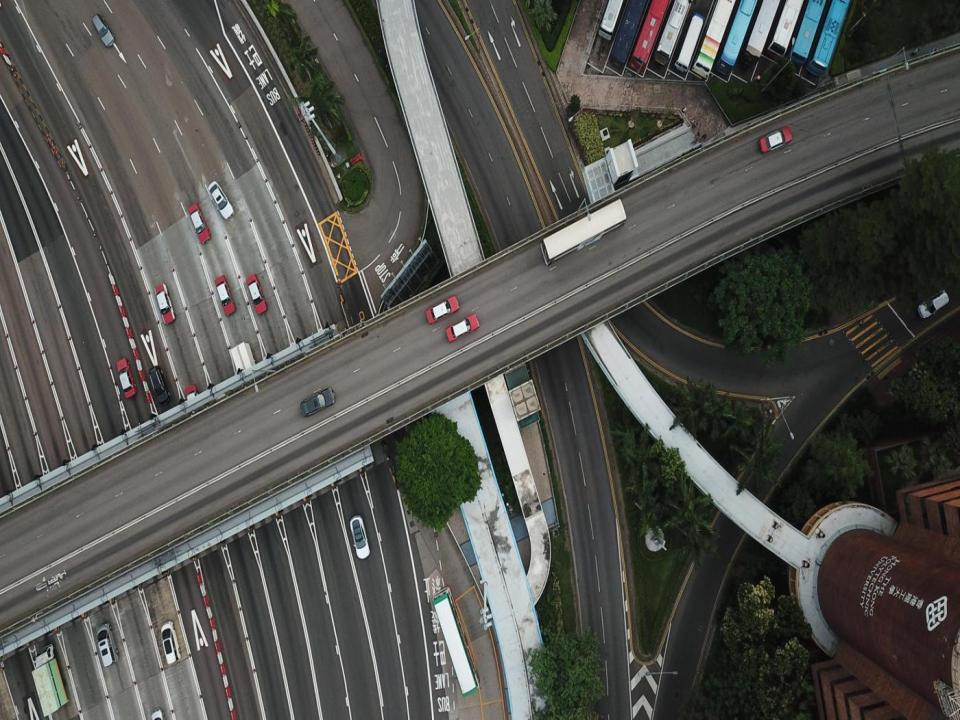bus: (540, 199, 625, 266), (432, 586, 479, 697), (692, 0, 736, 79), (804, 1, 849, 77), (715, 0, 757, 76), (786, 0, 828, 69), (740, 0, 781, 69), (631, 1, 671, 71), (610, 0, 650, 66), (654, 0, 693, 66), (766, 0, 805, 62), (674, 12, 706, 73), (598, 0, 624, 41)
car: (300, 388, 335, 418), (208, 181, 234, 219), (758, 126, 792, 155), (154, 282, 176, 326), (213, 275, 237, 315), (446, 313, 479, 342), (425, 296, 460, 323), (115, 358, 137, 398), (246, 274, 268, 314), (189, 203, 210, 244), (184, 384, 205, 424), (350, 516, 368, 560)
truck: (30, 642, 69, 716), (230, 340, 260, 403)
van: (96, 622, 118, 667), (160, 619, 181, 666), (917, 289, 949, 318), (149, 364, 170, 406), (91, 12, 115, 46)
